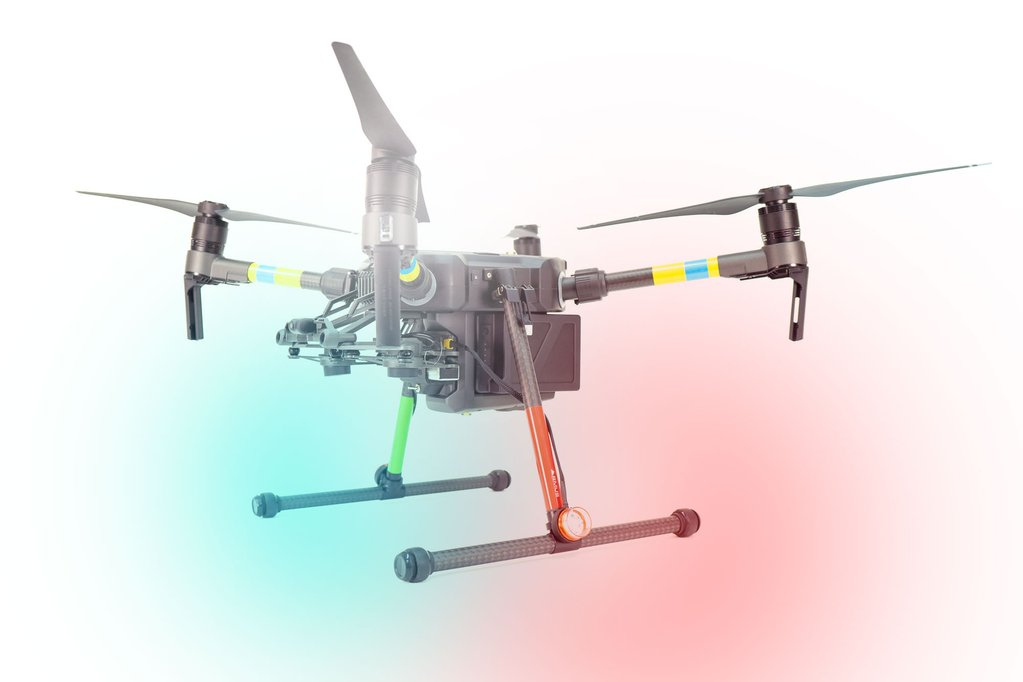drone: (68, 34, 996, 596)
